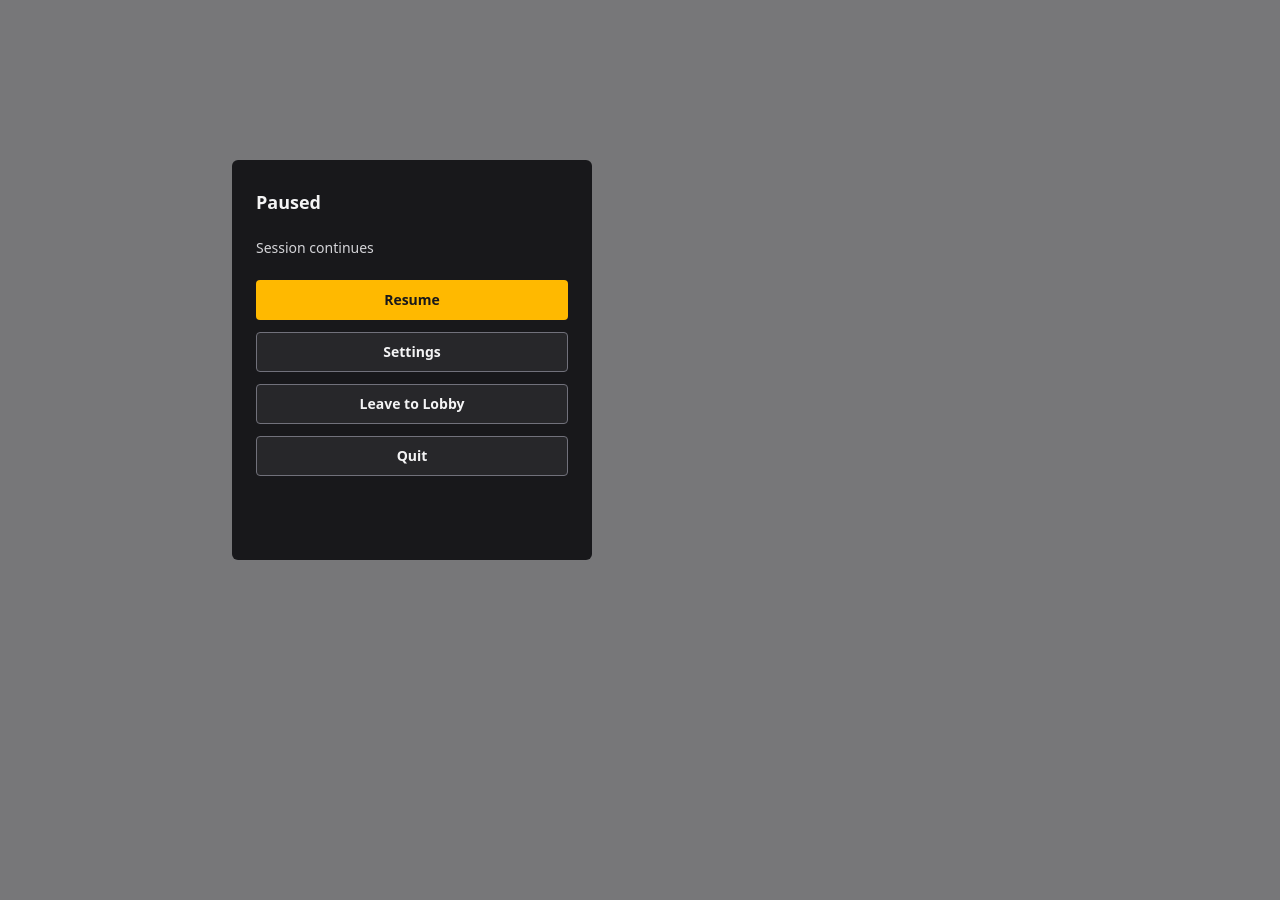
Test case: PauseScreen › Cancel closes the leave confirmation without a request
Click the button "Leave to Lobby" at (412, 404), box [256,384,568,424]
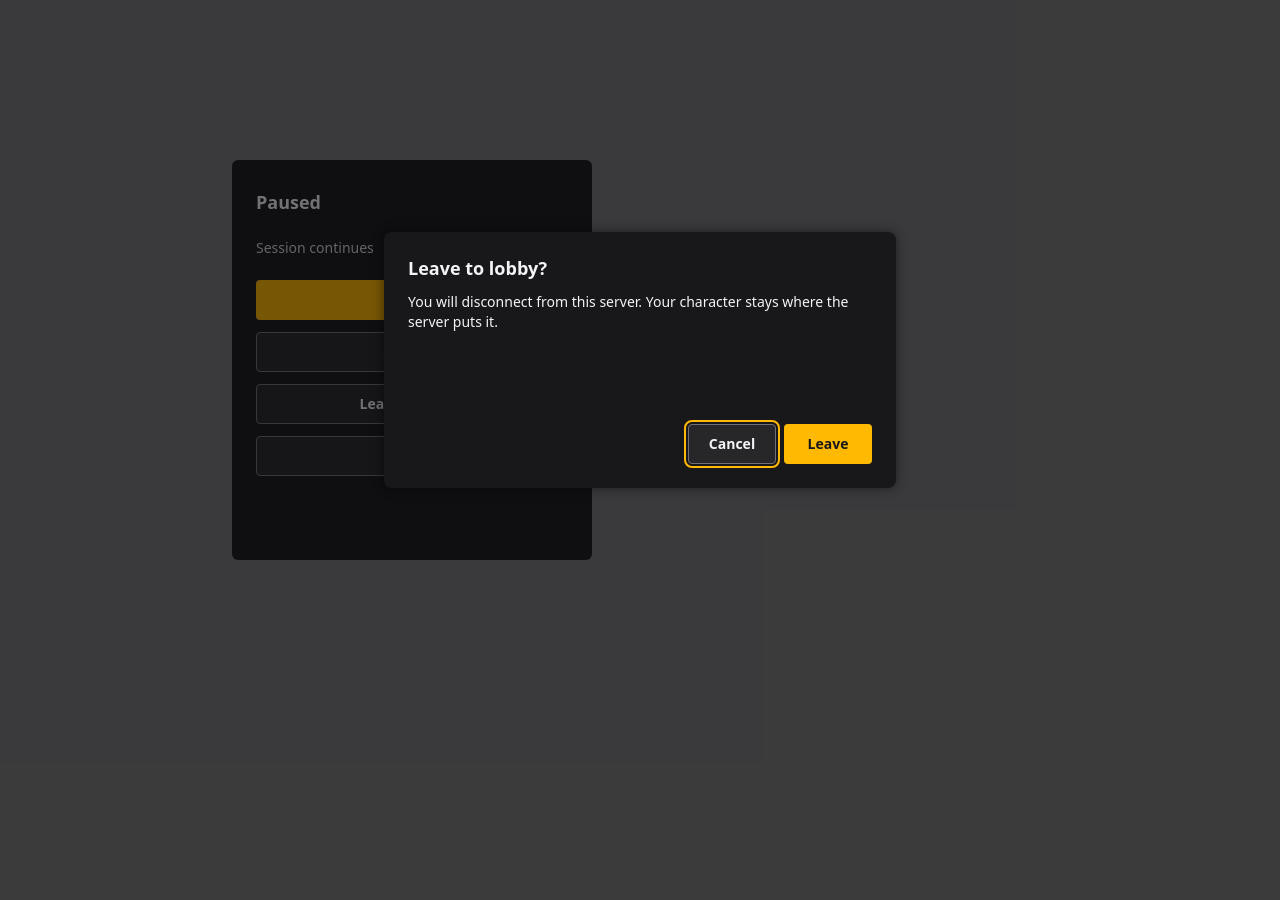
Click the button "Cancel" at (732, 444), box [688,424,776,464]
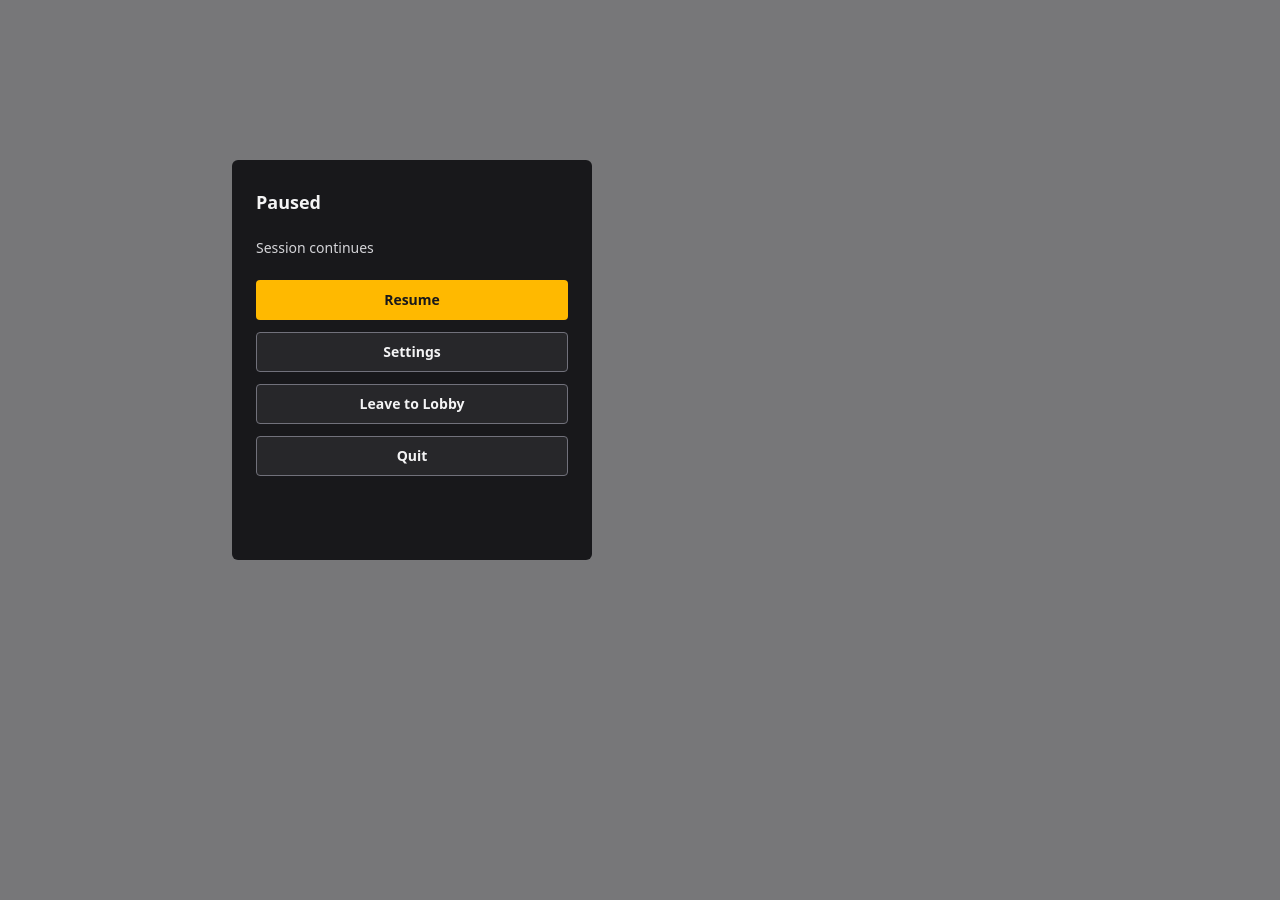
expect the dialog is gone: met
